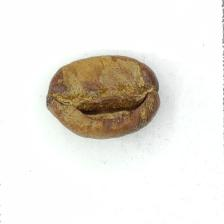NG: (64, 65, 152, 128)
